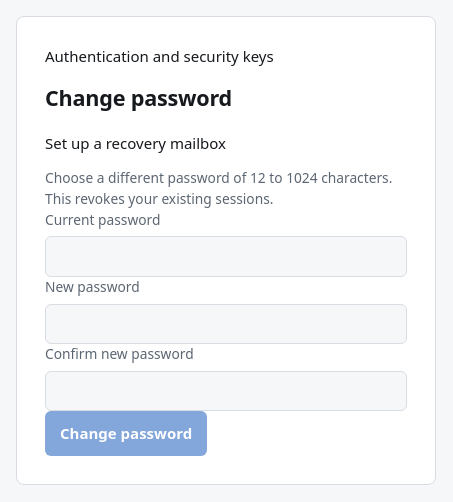
it: submits once, clears secrets and forgets the session after success
Type "synthetic-current" into the password field labelled "Current password".
click(226, 257); type("synthetic-current")  # box [45,236,407,277]
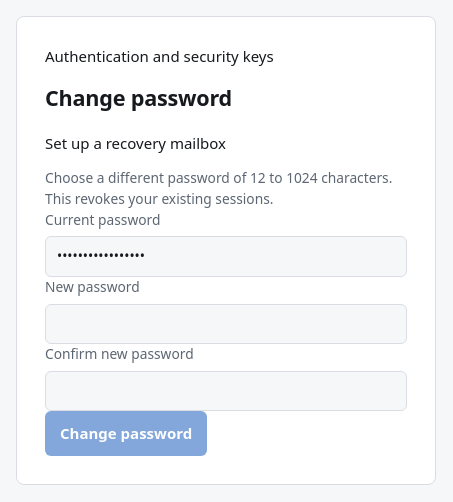
Type "synthetic-replacement" into the password field labelled "New password".
click(226, 324); type("synthetic-replacement")  # box [45,304,407,344]
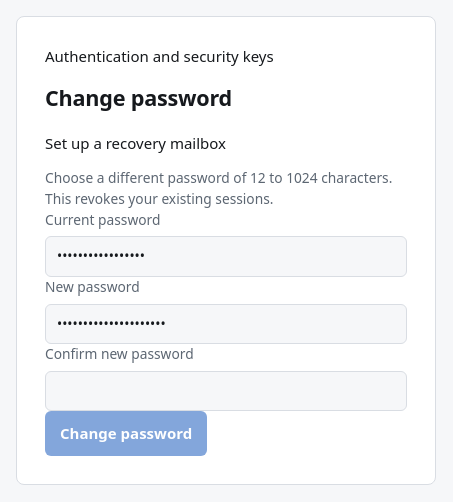
Type "synthetic-replacement" into the password field labelled "Confirm new password".
click(226, 391); type("synthetic-replacement")  # box [45,371,407,411]
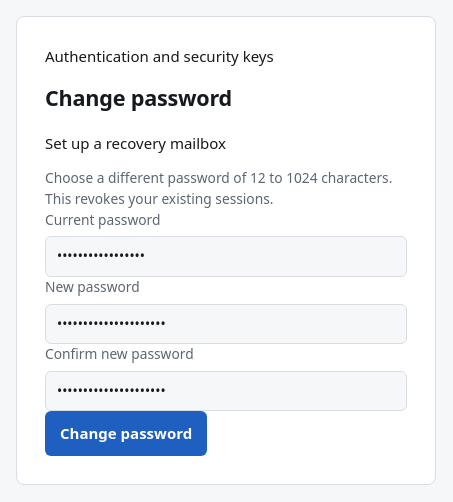
Submit the form, box [45,168,407,456]
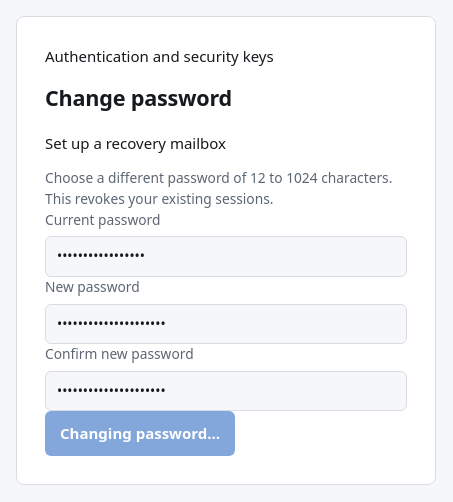
Submit the form, box [45,168,407,456]
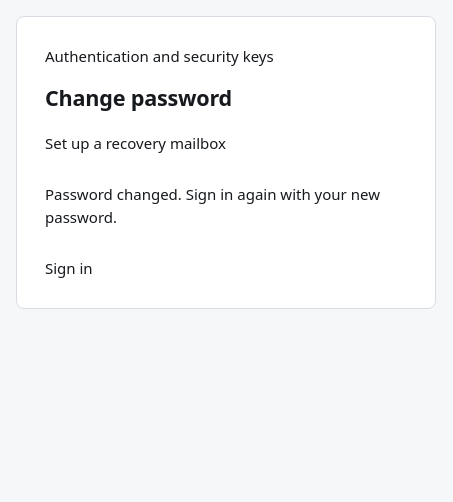
Now the text "Password changed" is shown, box [45,184,380,227]
